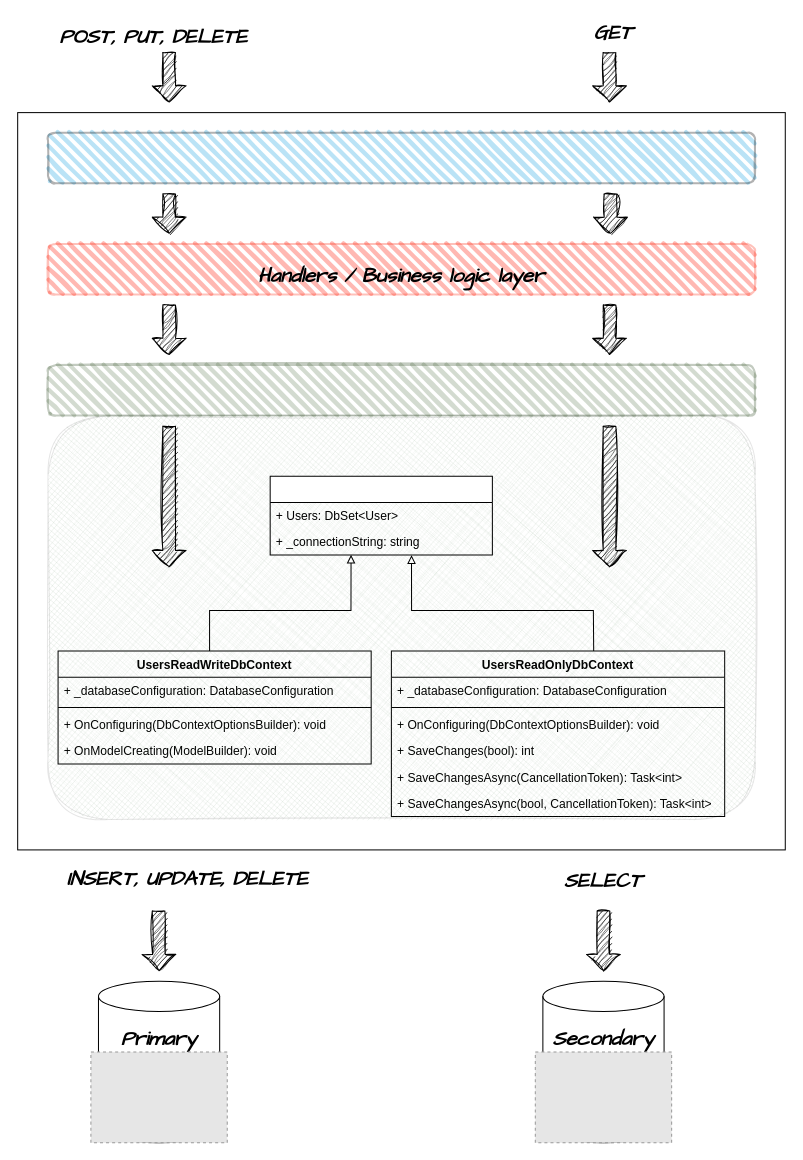
Image size: 803x1160. Some labels were removed from this diagram. Grey dashed boxes stand in for pictures. The box of each missing label's shape, as (x1, y1, x2, y2) in pixels:
Controllers / API layer: (46, 131, 755, 184)
DbContexts / DAL layer: (46, 364, 755, 416)
UsersBaseDbContext: (269, 475, 492, 555)
